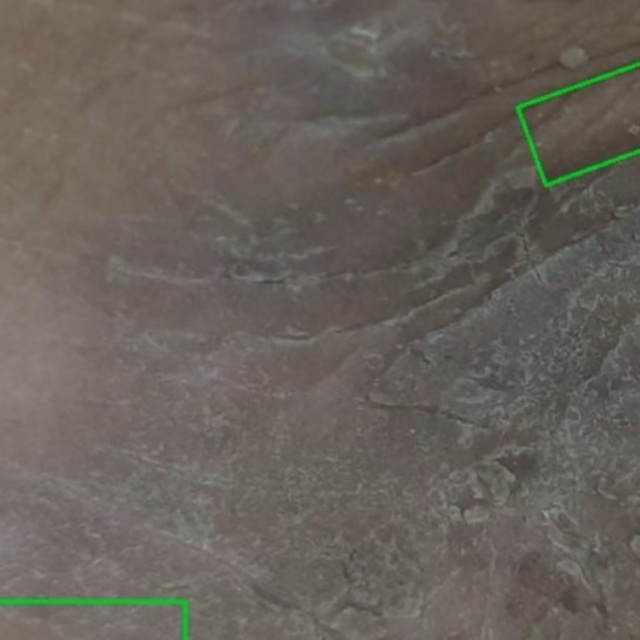Eczema: (519, 65, 639, 185)
